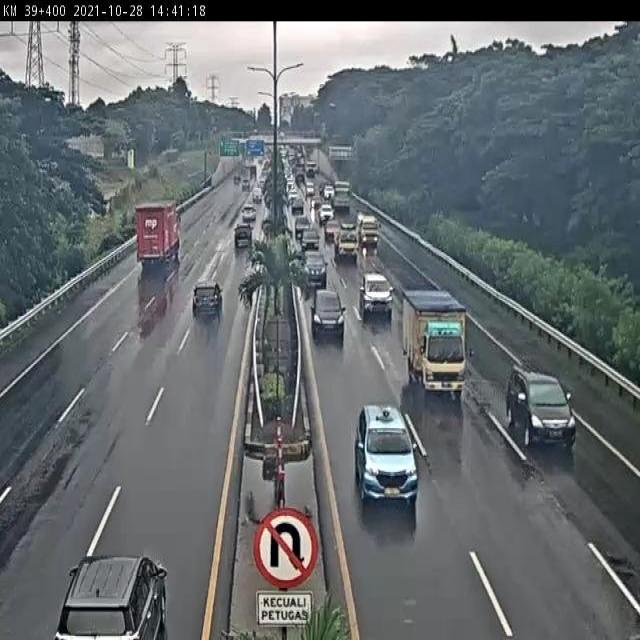car: (506, 362, 579, 454), (354, 404, 419, 504), (309, 288, 345, 340), (358, 271, 393, 317), (191, 280, 223, 321), (301, 249, 327, 283)
mid truck: (135, 201, 181, 267)
truck-m-: (403, 288, 470, 399)
